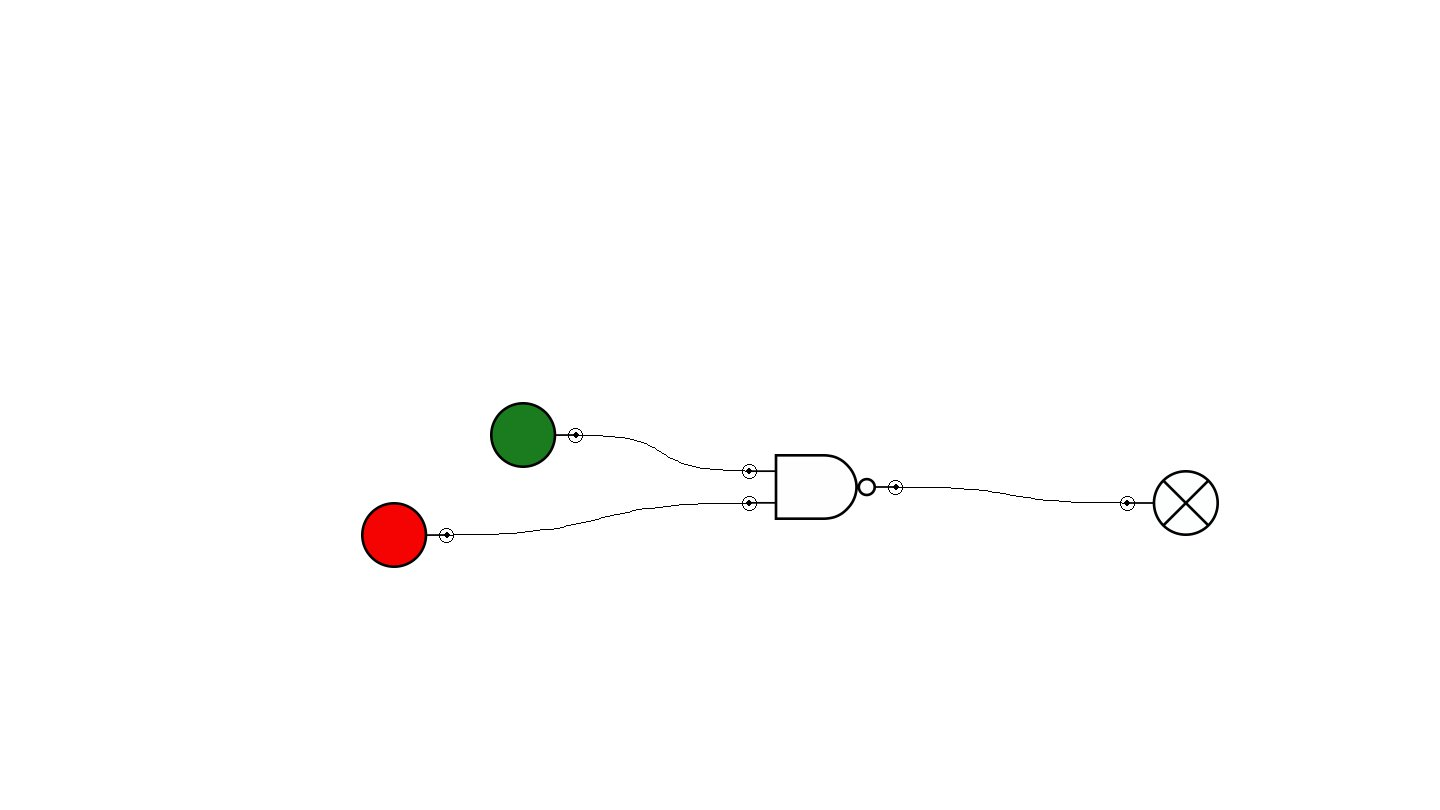bulb: (1120, 470, 1219, 536)
nand: (742, 454, 903, 520)
switch_False: (361, 502, 454, 568)
switch_True: (490, 402, 583, 468)
